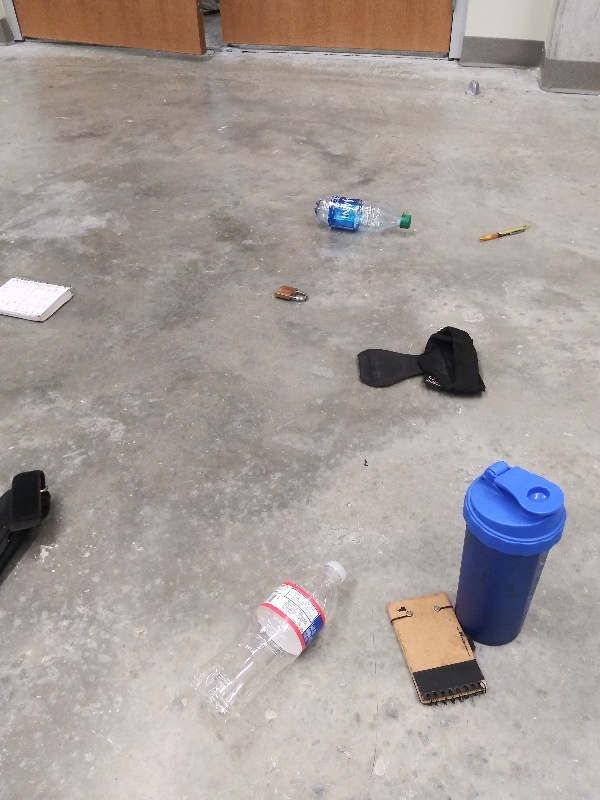bottle: (183, 554, 352, 726), (311, 195, 415, 236)
